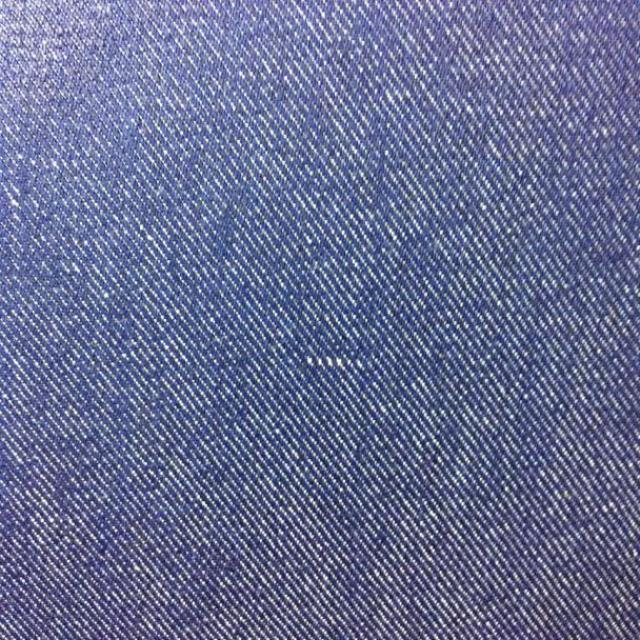Knot: (304, 356, 365, 371)
